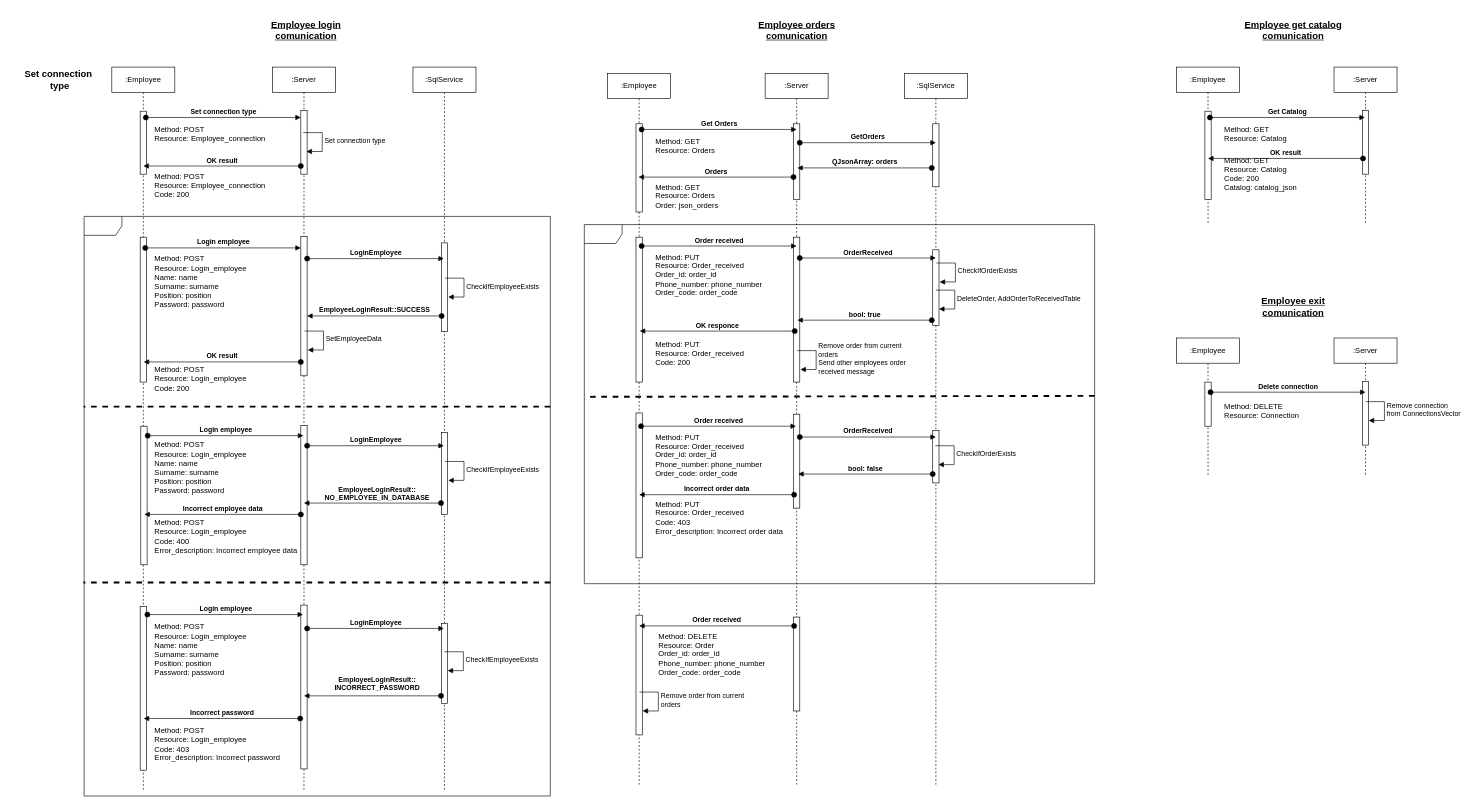
The diagram is 1471 pixels wide and 807 high, and some of its shapes have lost their labels. The centre of each missing label's shape, as x and y in pixels:
alt: (316,506)
frame: (839,404)
